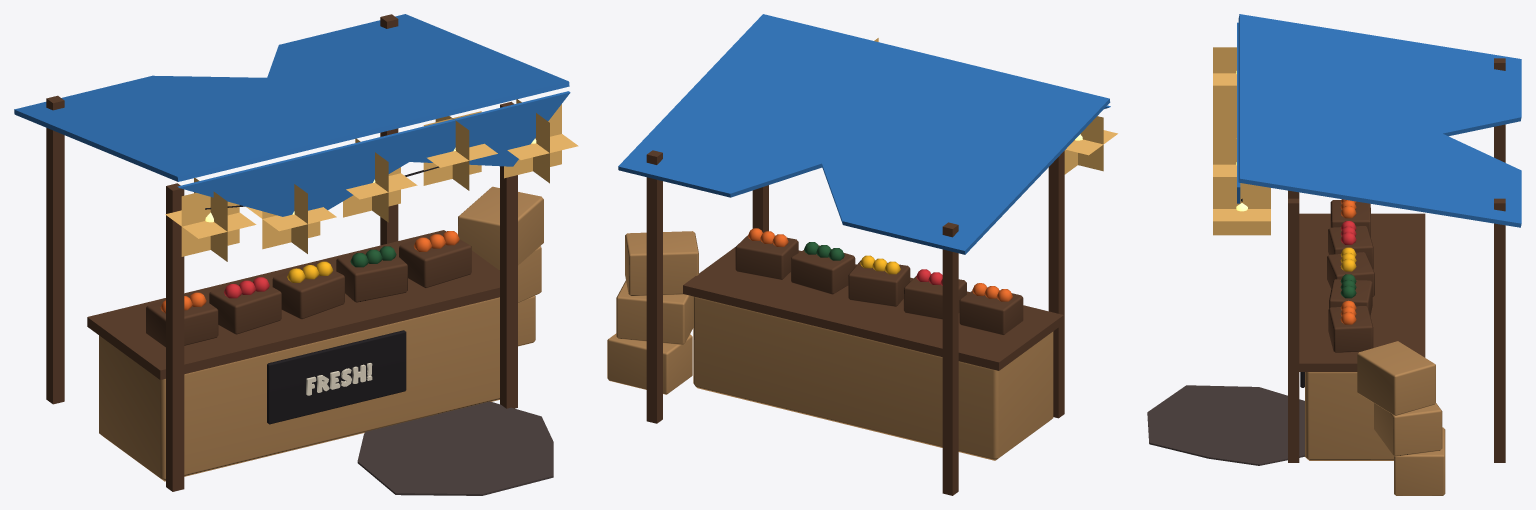
File: city_market_stall.glb
3 views of the same model, side by side, from view 1: azimuth 30°, elevation 25°; view 2: azimuth 150°, elevation 25°; view 3: azimuth 270°, elevation 25° (orthographic). The views are drawn at different scales.
Visible parts, largest first — view 1: MarketStall; view 2: MarketStall; view 3: MarketStall.
Boxes of the visible parts, box(x1,y1,x2,y2) form: MarketStall: box(14, 14, 578, 495); MarketStall: box(607, 14, 1117, 495); MarketStall: box(1147, 14, 1521, 495).
Size of the model in its own units: 3.96 by 2.83 by 3.27.
